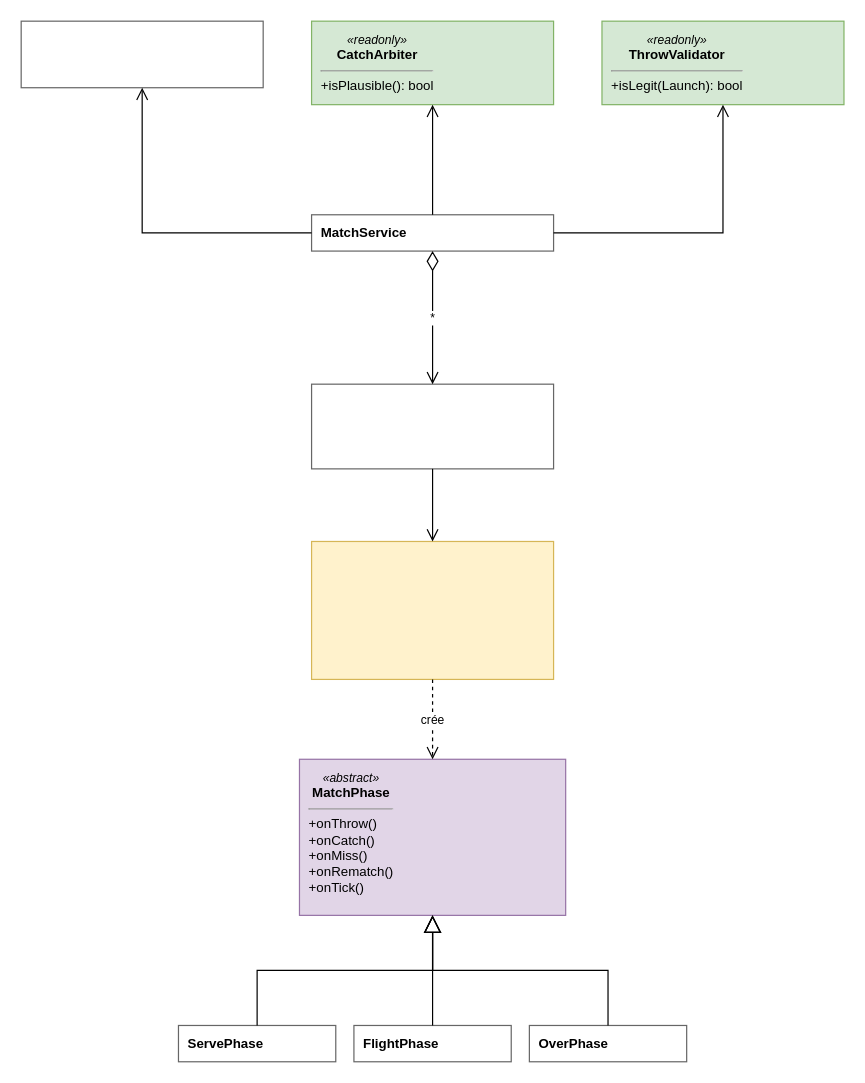
This 865x1083 diagram has some shape labels left out. The shapes that lost their labels are listed below. From the top down, each one's box as (x1, y1, x2, y2) in pixels, then its label:
(20, 20, 263, 88): RankingBook +settle(RankedMatch)
(310, 383, 554, 469): GameMatch +state: MatchState +ranked: bool
(310, 540, 554, 679): «enumeration» MatchState Serve Flight Over +phase(): MatchPhase
